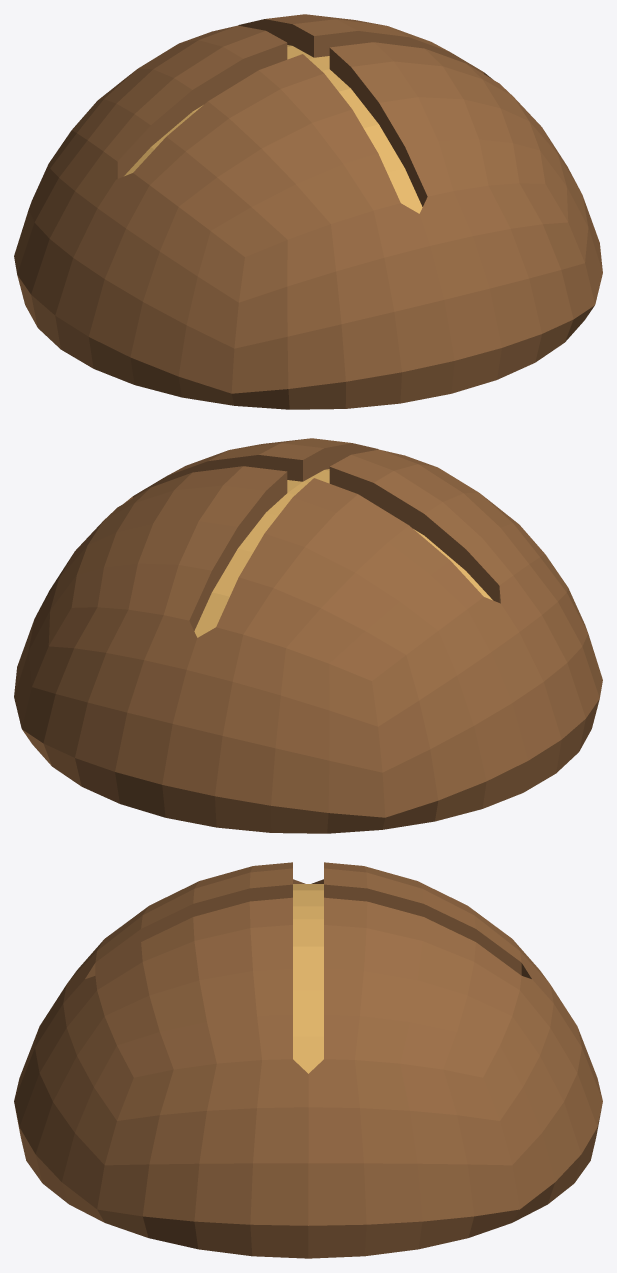
File: Item_Bread.fbx
3 renders of one model, top to bottom at view 1: azimuth 30°, elevation 25°; view 2: azimuth 150°, elevation 25°; view 3: azimuth 270°, elevation 25°, orthographic.
Parts seen in each view (by area): view 1: Cube; view 2: Cube; view 3: Cube.
Boxes of the visible parts, x1,y1,x2,y2 form: Cube: (14,14,602,409); Cube: (14,438,602,833); Cube: (14,862,602,1258).
Bounding box in the file's own units: 337 × 155 × 337.
